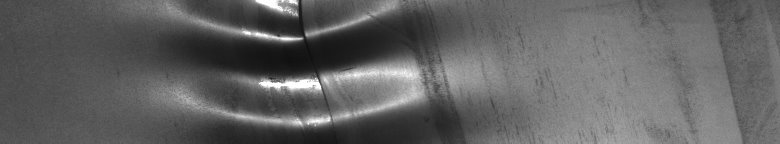ke: (186, 4, 444, 136)
